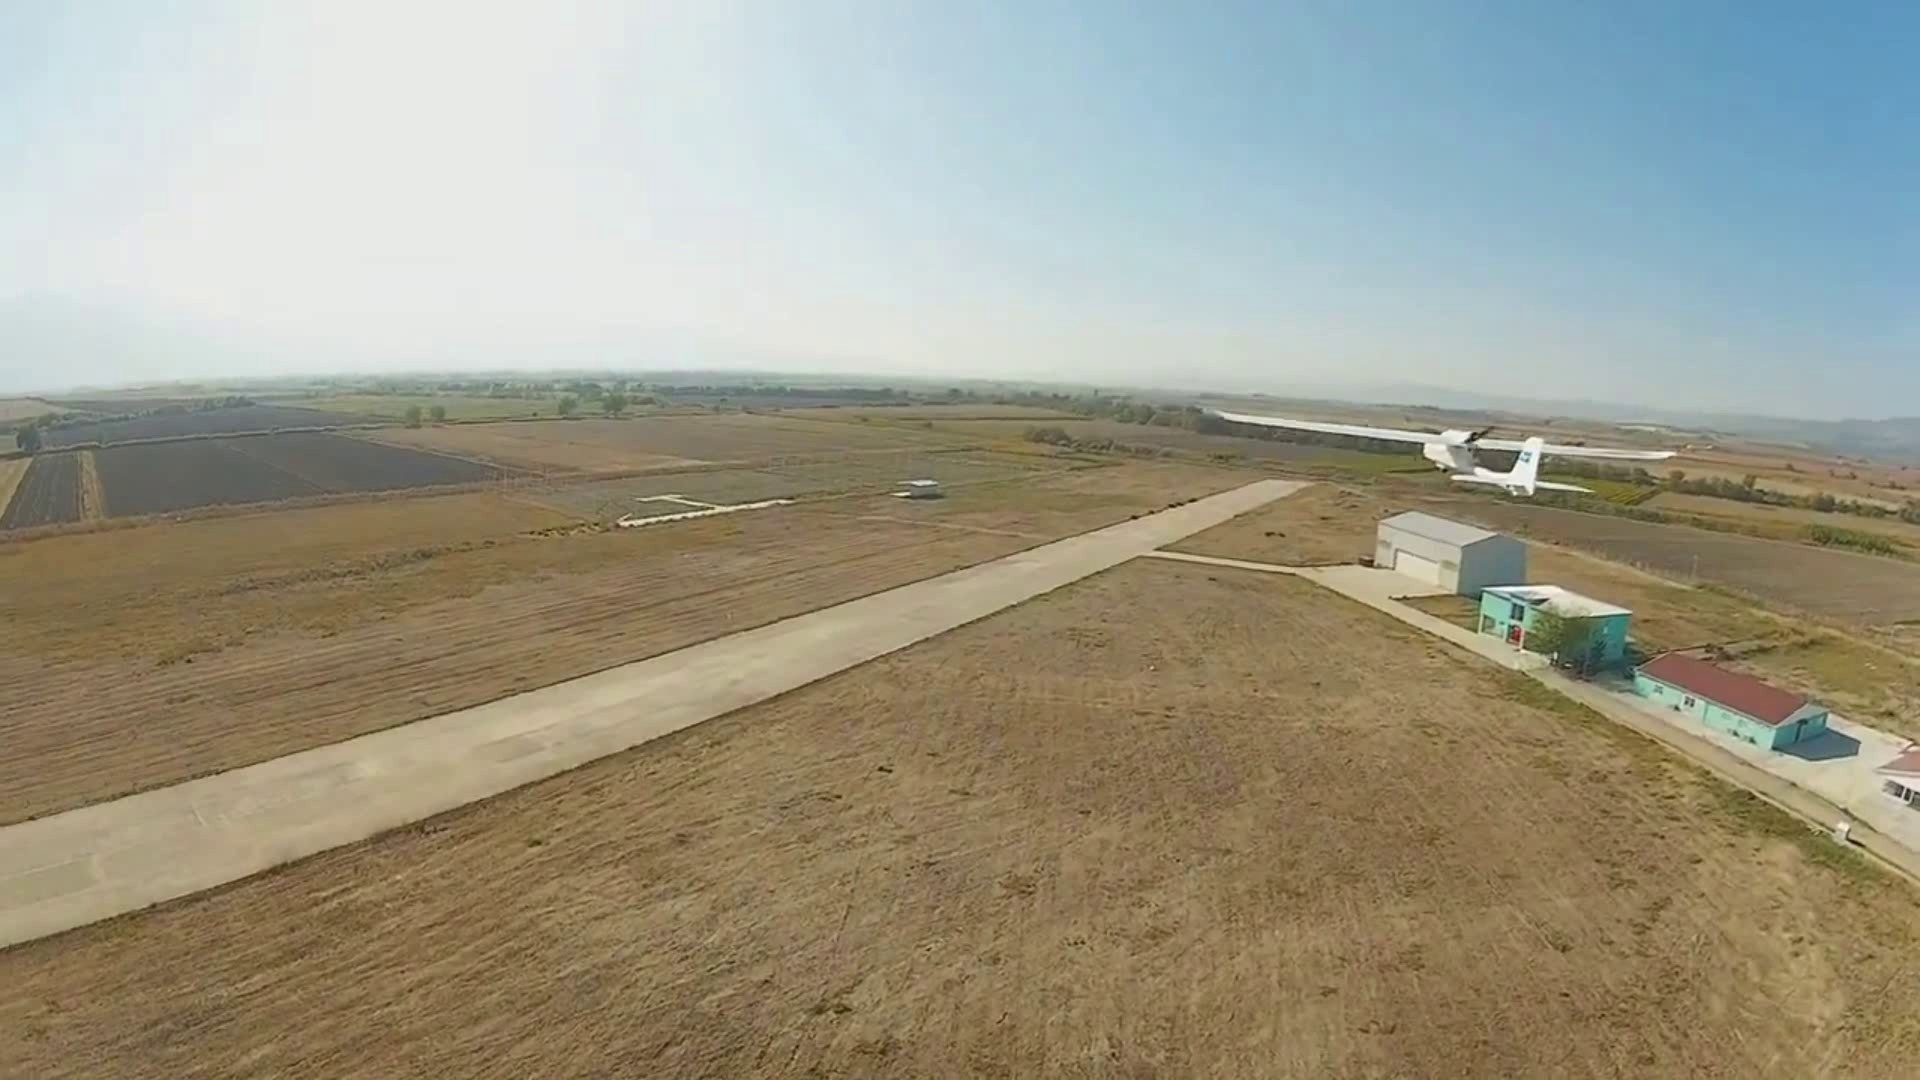airplane: (1194, 398, 1684, 501)
